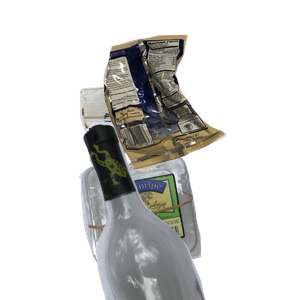cardboard: (77, 79, 251, 227)
glass: (81, 120, 300, 300)
plastic: (76, 151, 270, 300)
trash: (101, 32, 300, 195)
